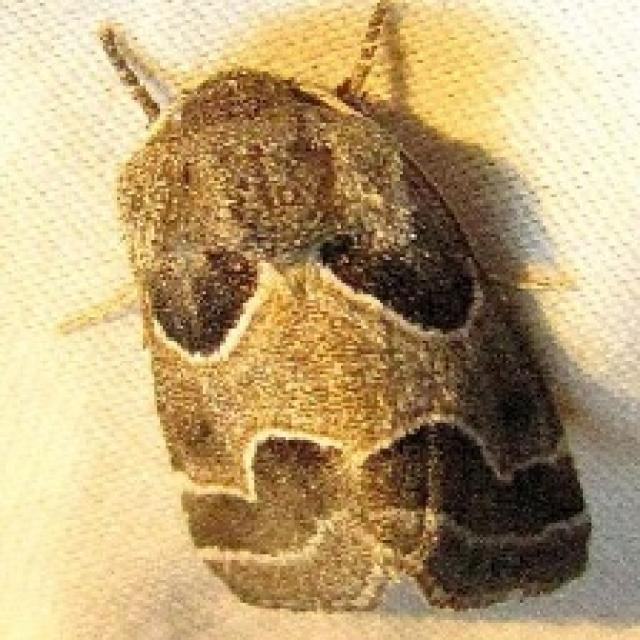butterfly: (54, 0, 594, 614)
